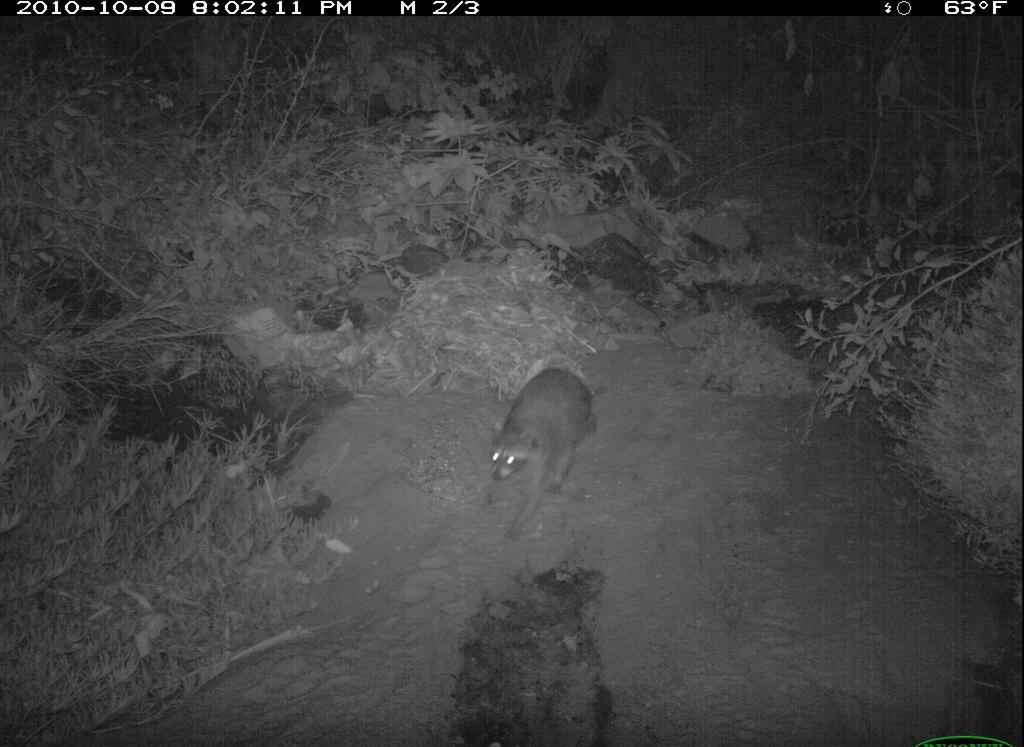raccoon: (464, 356, 633, 539)
